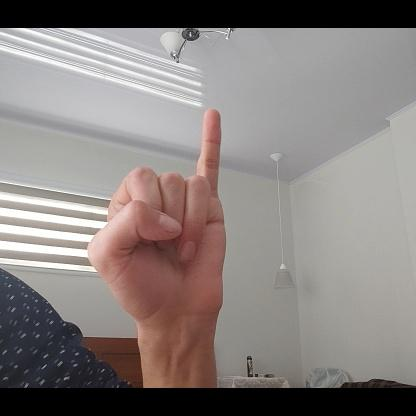I: (87, 106, 229, 325)
